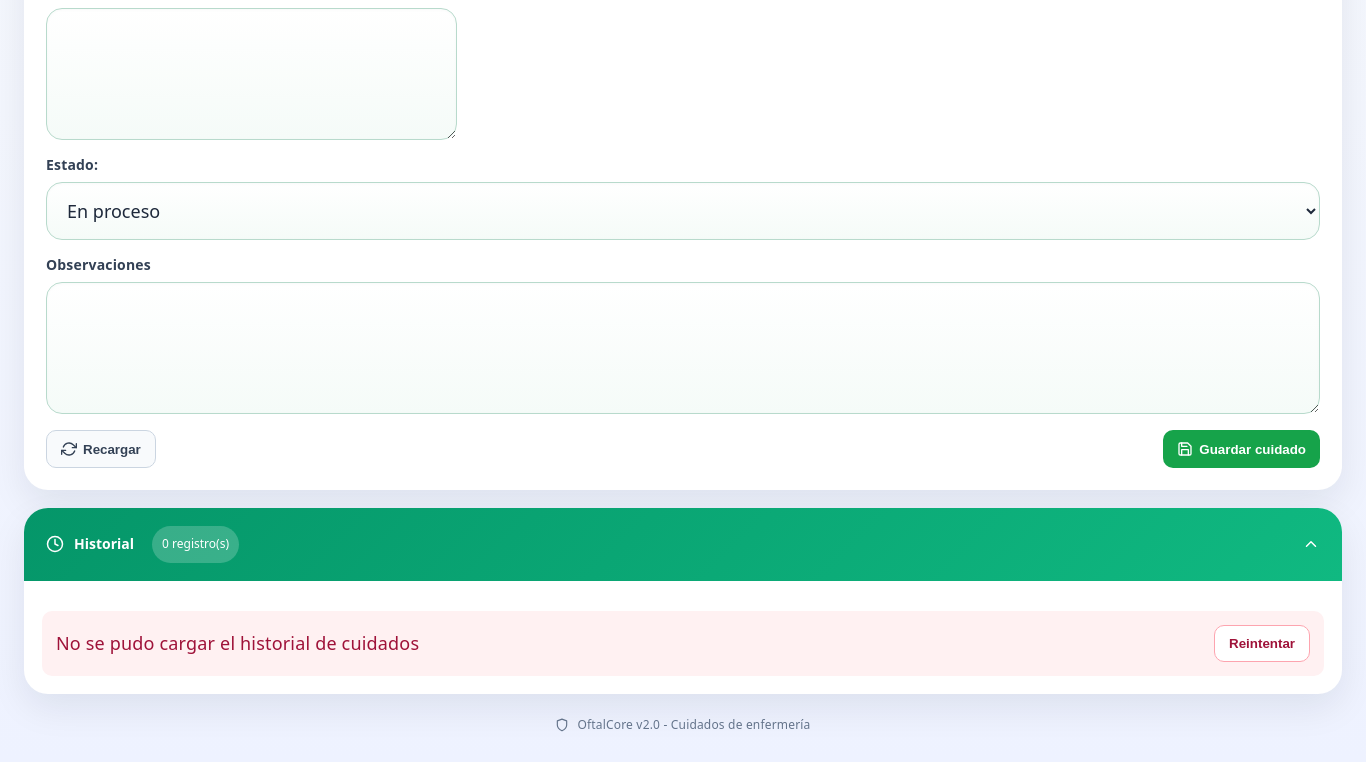
Test case: PBL-23 — diseño de Cuidados de Enfermería › muestra un error recuperable cuando falla el historial
(page scrolled)
Expected: the message "No se pudo cargar el historial de cuidados Reintentar" is shown, [42,610,1324,676]
Click the button "Reintentar". click: (1262, 643)
box: [1214,624,1310,662]
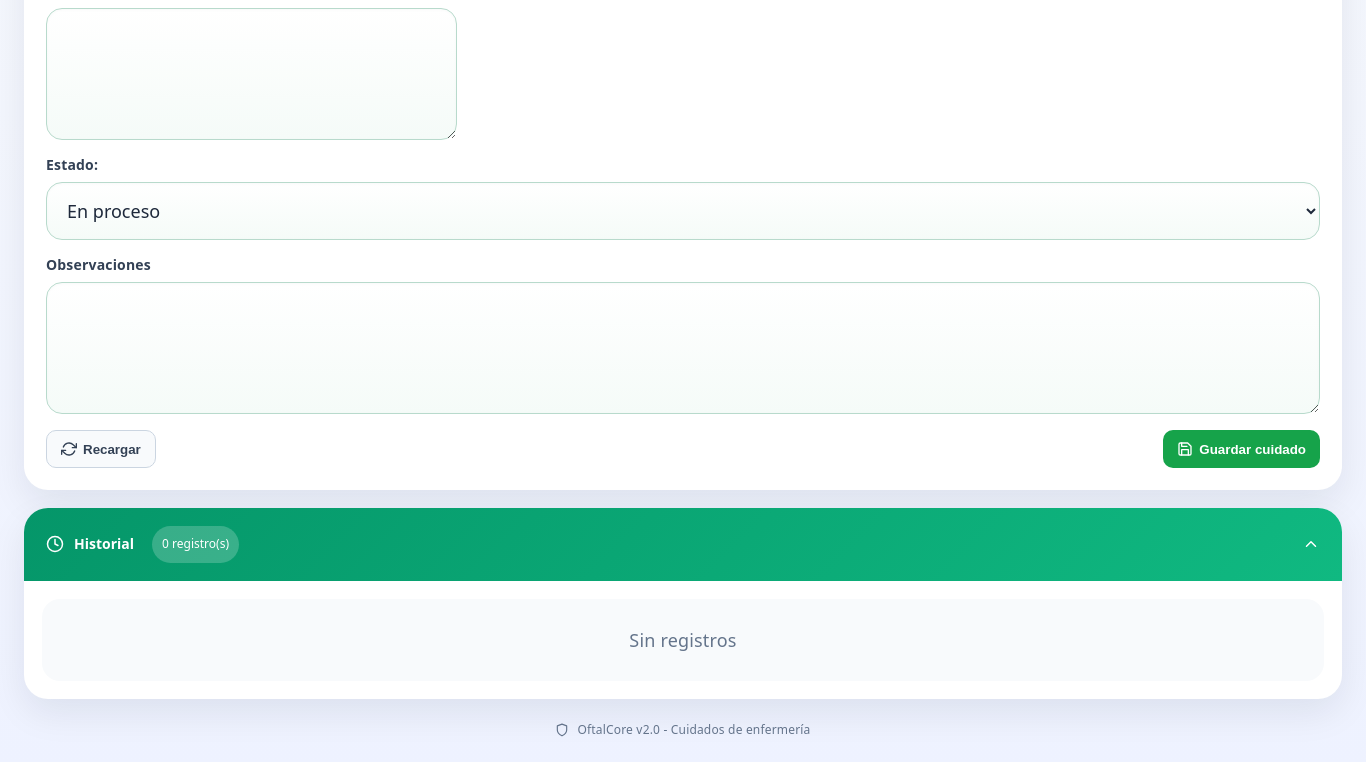
Now the text "Sin registros" is shown, box [42,598,1324,681]
